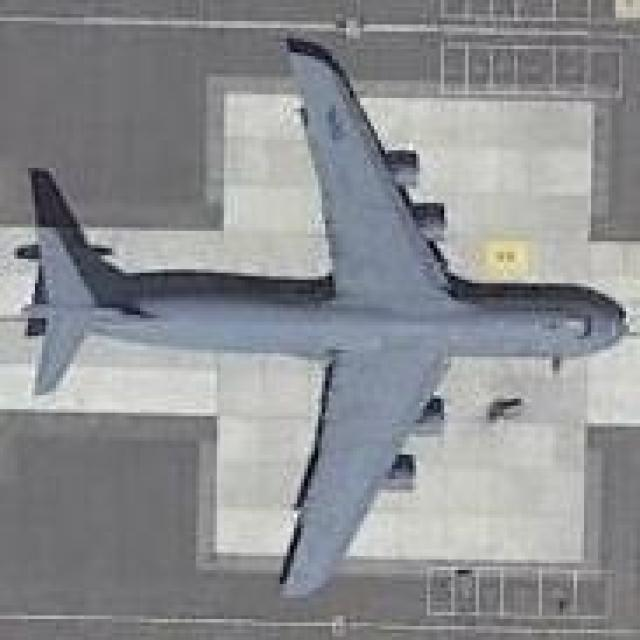C-5_TopDown: (5, 32, 632, 600)
